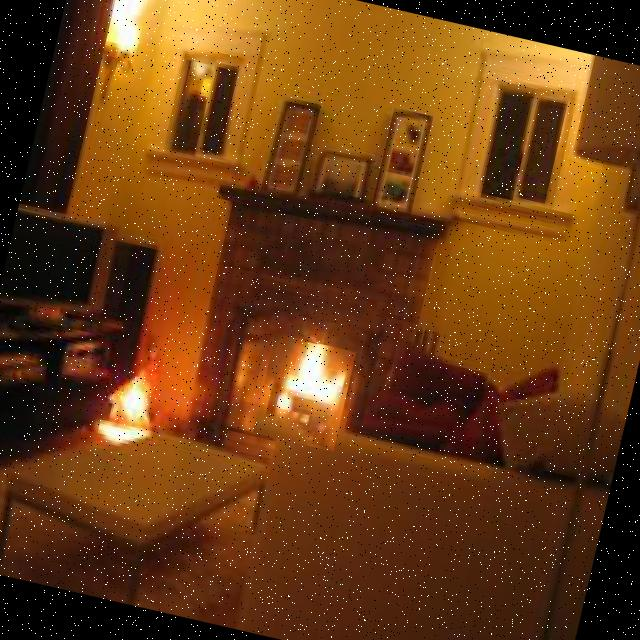fire: (252, 333, 356, 451)
